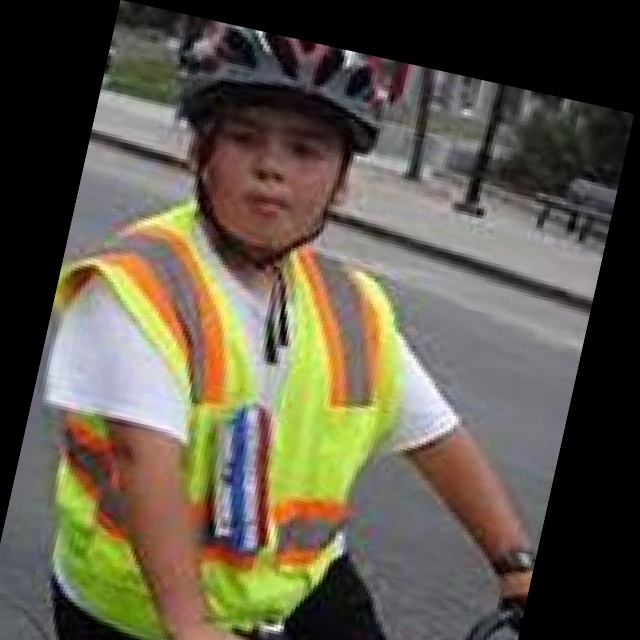Con_Chaleco: (35, 200, 406, 640)
